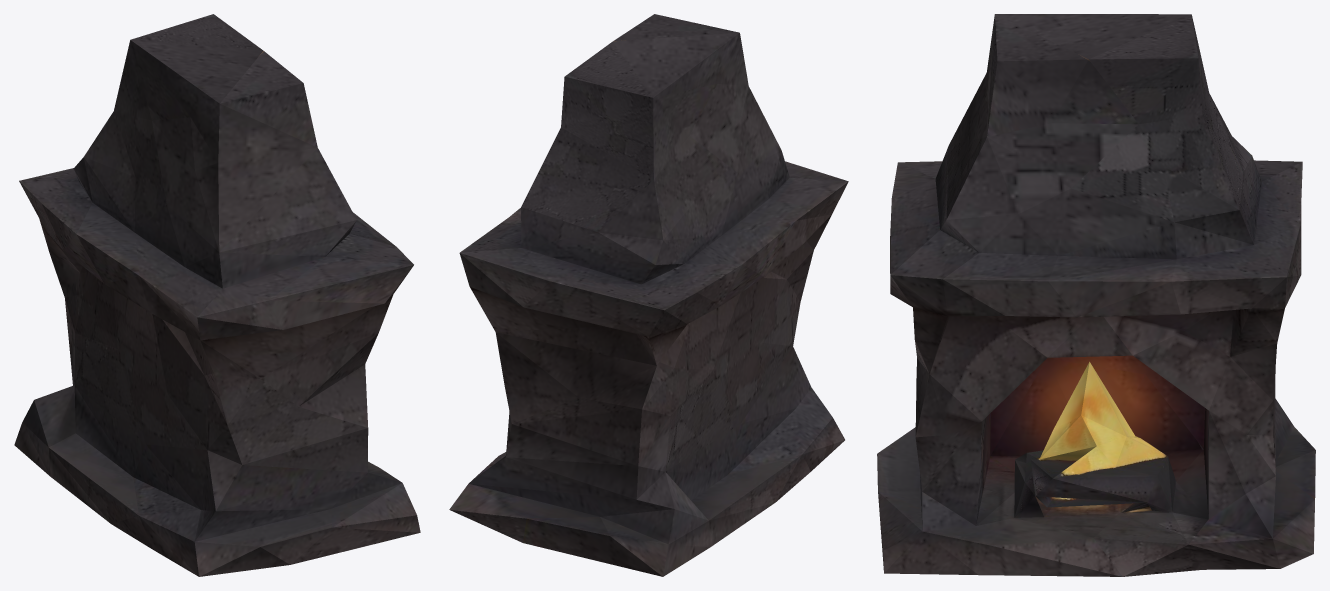
Rendered from fireplace.glb.
The picture shows the model from 3 angles, left to right: view 1: azimuth 30°, elevation 25°; view 2: azimuth 150°, elevation 25°; view 3: azimuth 270°, elevation 25°; orthographic projection. The views are drawn at different scales.
Visible parts, largest first — view 1: fireplace; view 2: fireplace; view 3: fireplace.
Boxes of the visible parts, x1,y1,x2,y2 form: fireplace: [14, 14, 420, 576]; fireplace: [449, 14, 848, 576]; fireplace: [877, 14, 1315, 576].
Size of the model in its own units: 1.07 by 1.92 by 1.59.
Materials: 1 (1 with a texture image).
